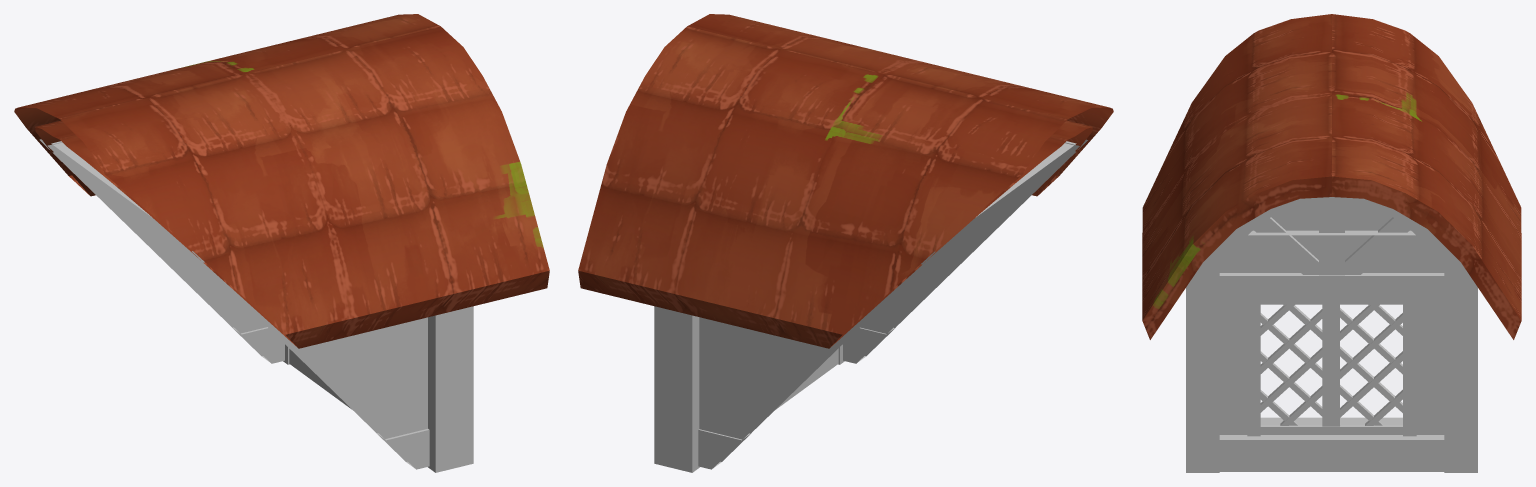
File: Roof_Dormer_FlatTile.fbx
3 renders of one model, left to right at view 1: azimuth 30°, elevation 25°; view 2: azimuth 150°, elevation 25°; view 3: azimuth 270°, elevation 25°, orthographic. The views are drawn at different scales.
Visible parts, largest first — view 1: Roof_Dormer_FlatTile; view 2: Roof_Dormer_FlatTile; view 3: Roof_Dormer_FlatTile.
Boxes of the visible parts, left/top/right/bottom form: Roof_Dormer_FlatTile: left=14, top=14, right=549, bottom=472; Roof_Dormer_FlatTile: left=578, top=14, right=1113, bottom=472; Roof_Dormer_FlatTile: left=1142, top=14, right=1521, bottom=472.
Bounding box in the file's own units: 210 × 190 × 205.
